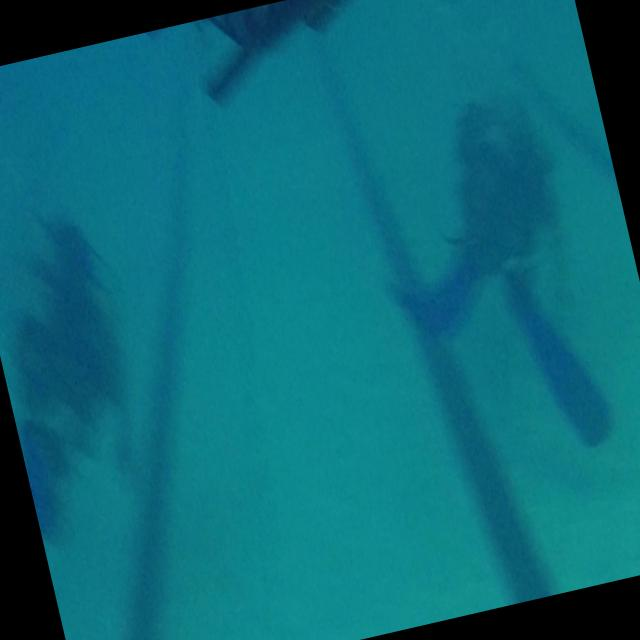human: (335, 54, 640, 617), (0, 193, 171, 544)
